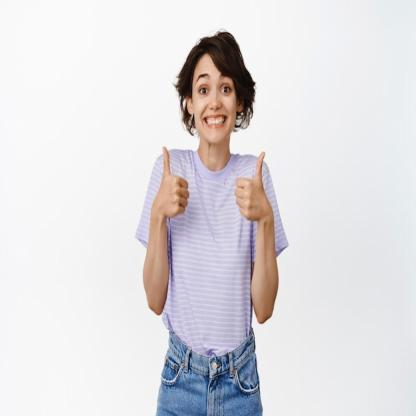thumb_up: (150, 141, 192, 226), (232, 144, 270, 224)
